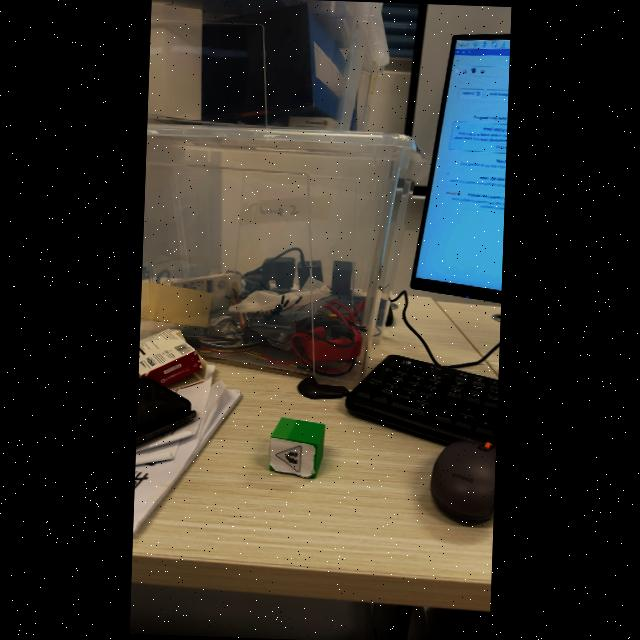Earthquake: (275, 445, 301, 472)
